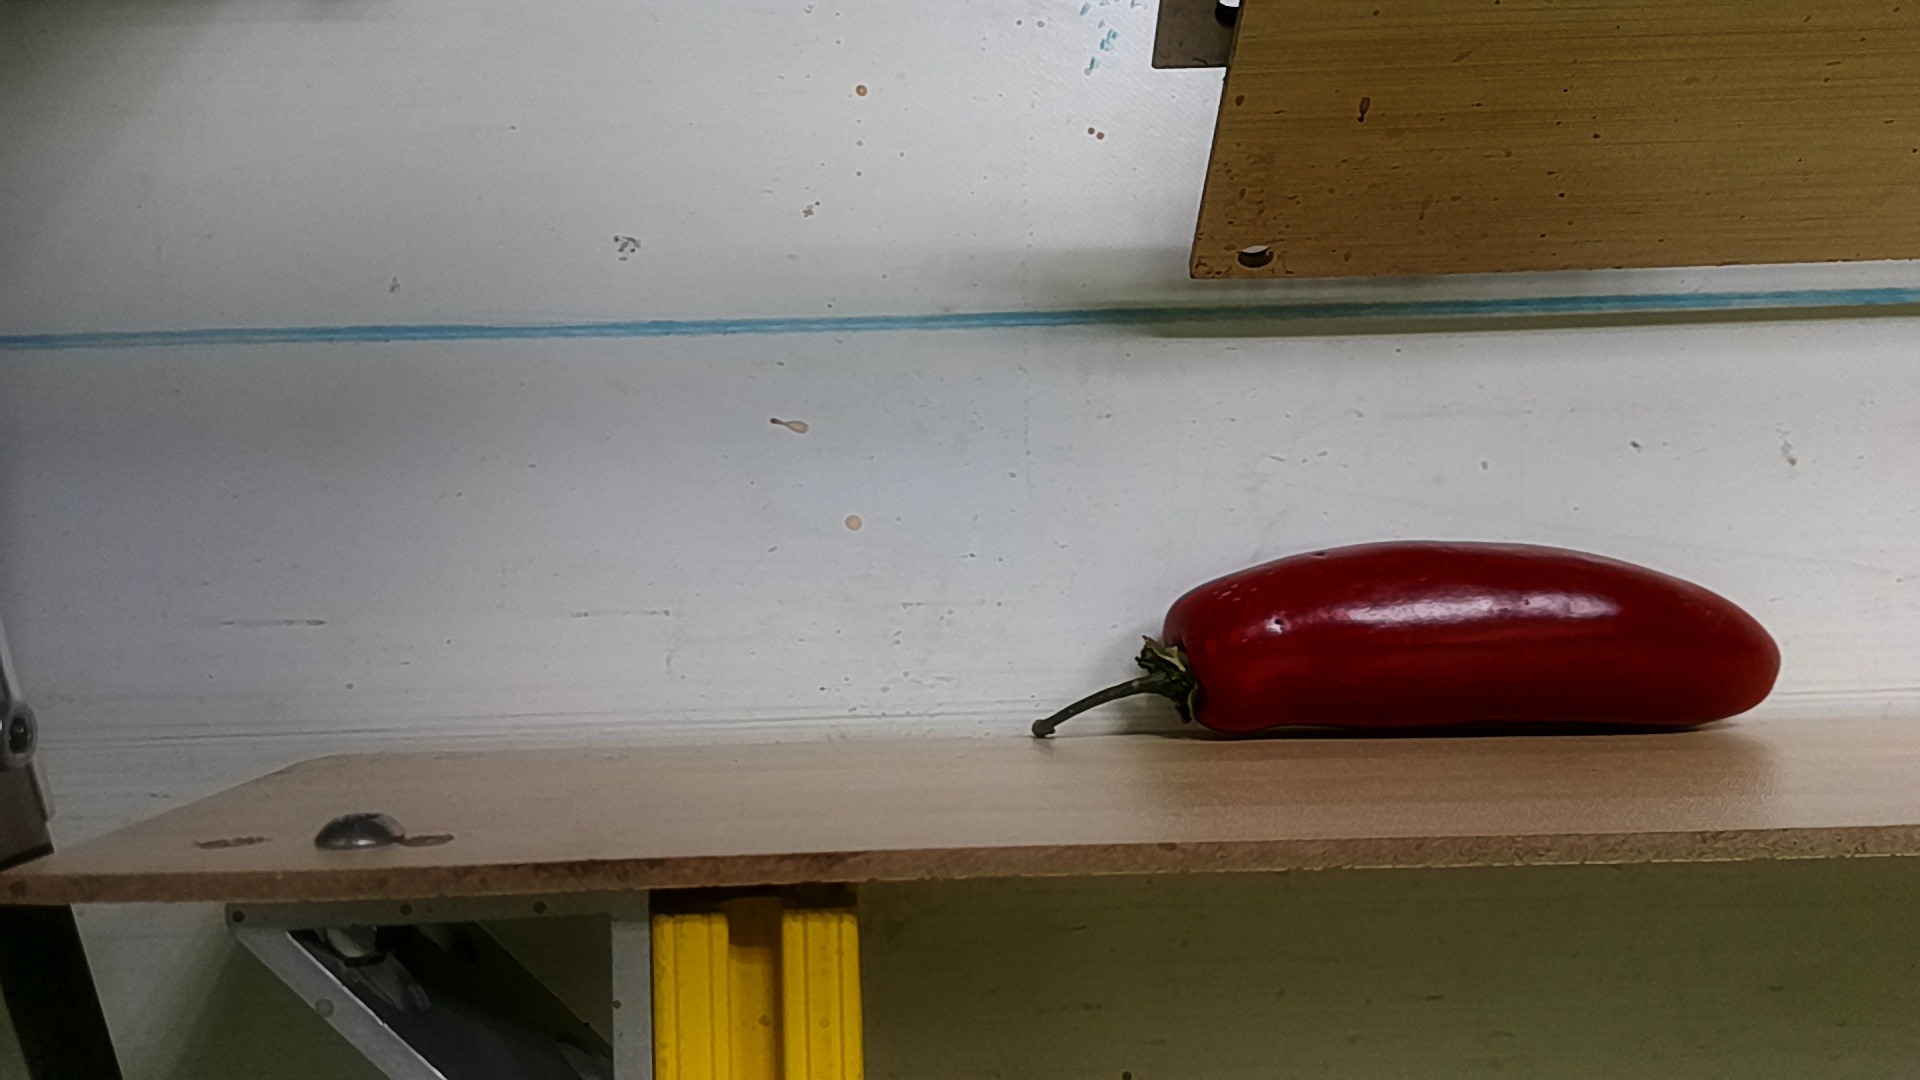Cut Point: (1135, 578, 1247, 742)
